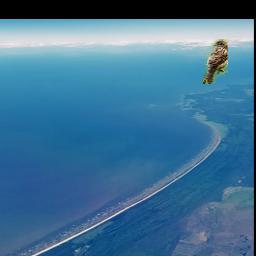Sparrow: (203, 40, 229, 85)
